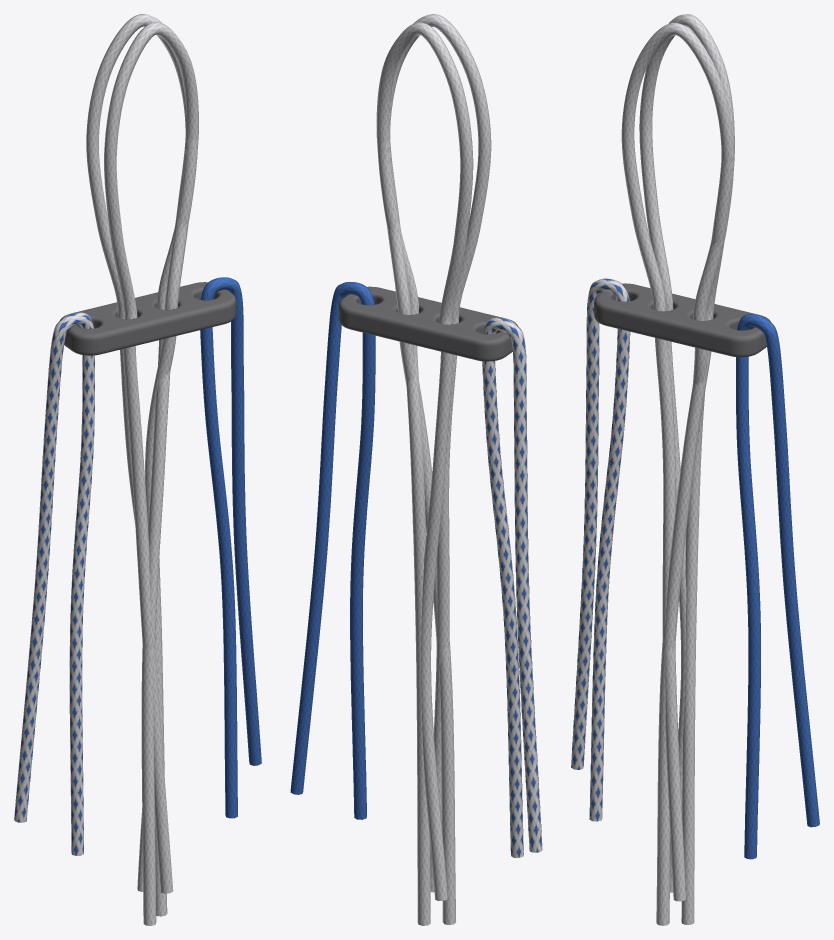
The model's file is wingbutton.glb.
3 views of the same model, side by side, from view 1: azimuth 30°, elevation 25°; view 2: azimuth 150°, elevation 25°; view 3: azimuth 330°, elevation 25° (orthographic).
Visible parts, largest first — view 1: wingbutton; view 2: wingbutton; view 3: wingbutton.
Part boxes in pixels (x1,y1,x2,y2): wingbutton: [14, 14, 261, 925]; wingbutton: [290, 14, 542, 925]; wingbutton: [571, 14, 819, 925].
Size of the model in its own units: 0.0182 by 0.0632 by 0.004.
Materials: 4 (3 with a texture image).
